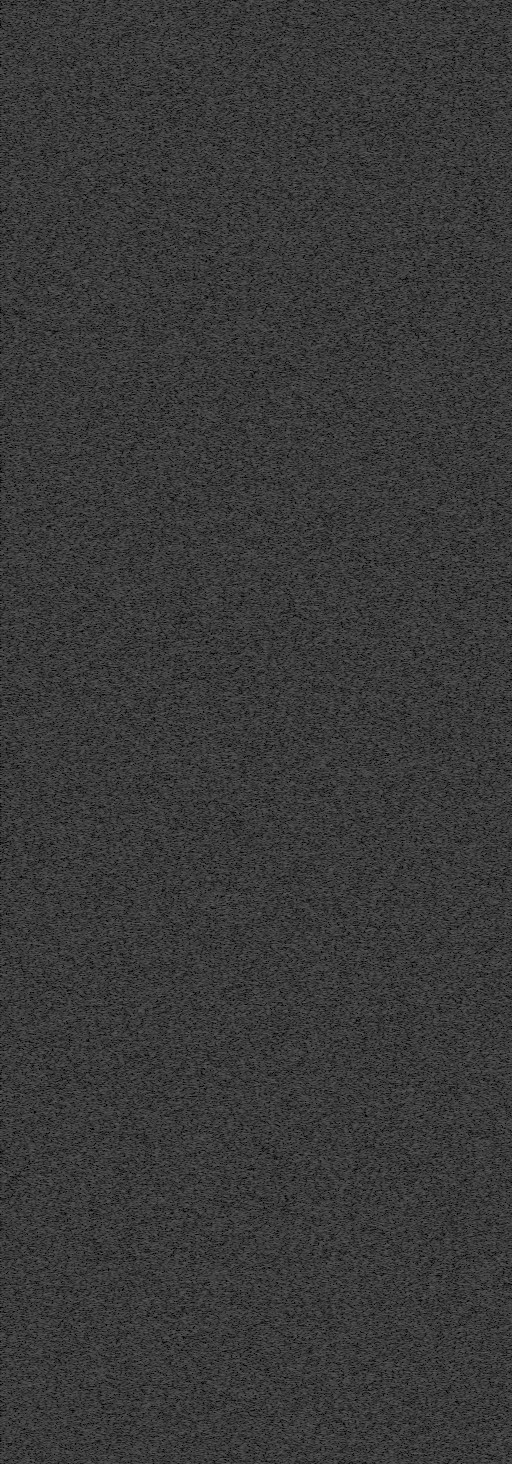wv_am: (272, 0, 278, 1452)
wv_cw: (339, 0, 344, 1464), (449, 0, 454, 1464)
